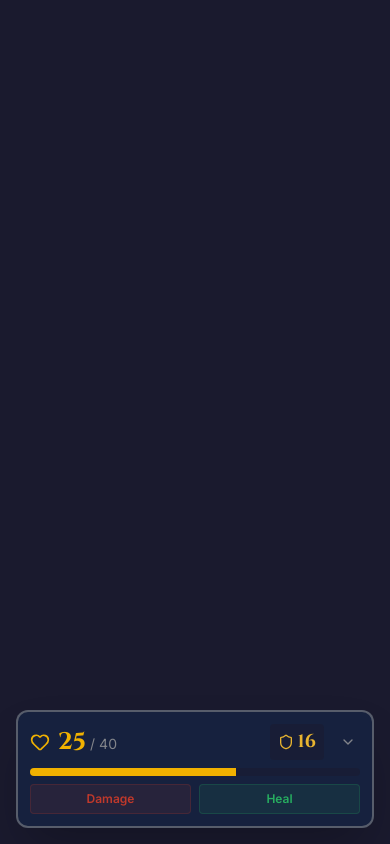
Scenario: CompactHPWidget › opens heal modal when heal button is clicked
The image size is (390, 844).
Click the button with test id "quick-heal" at x=280, y=799, box [199,784,360,814]
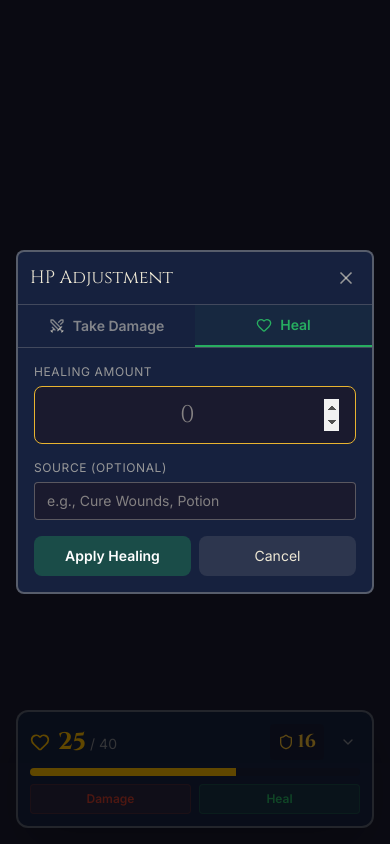
Expected: the dialog with test id "damage-heal-modal" is shown
